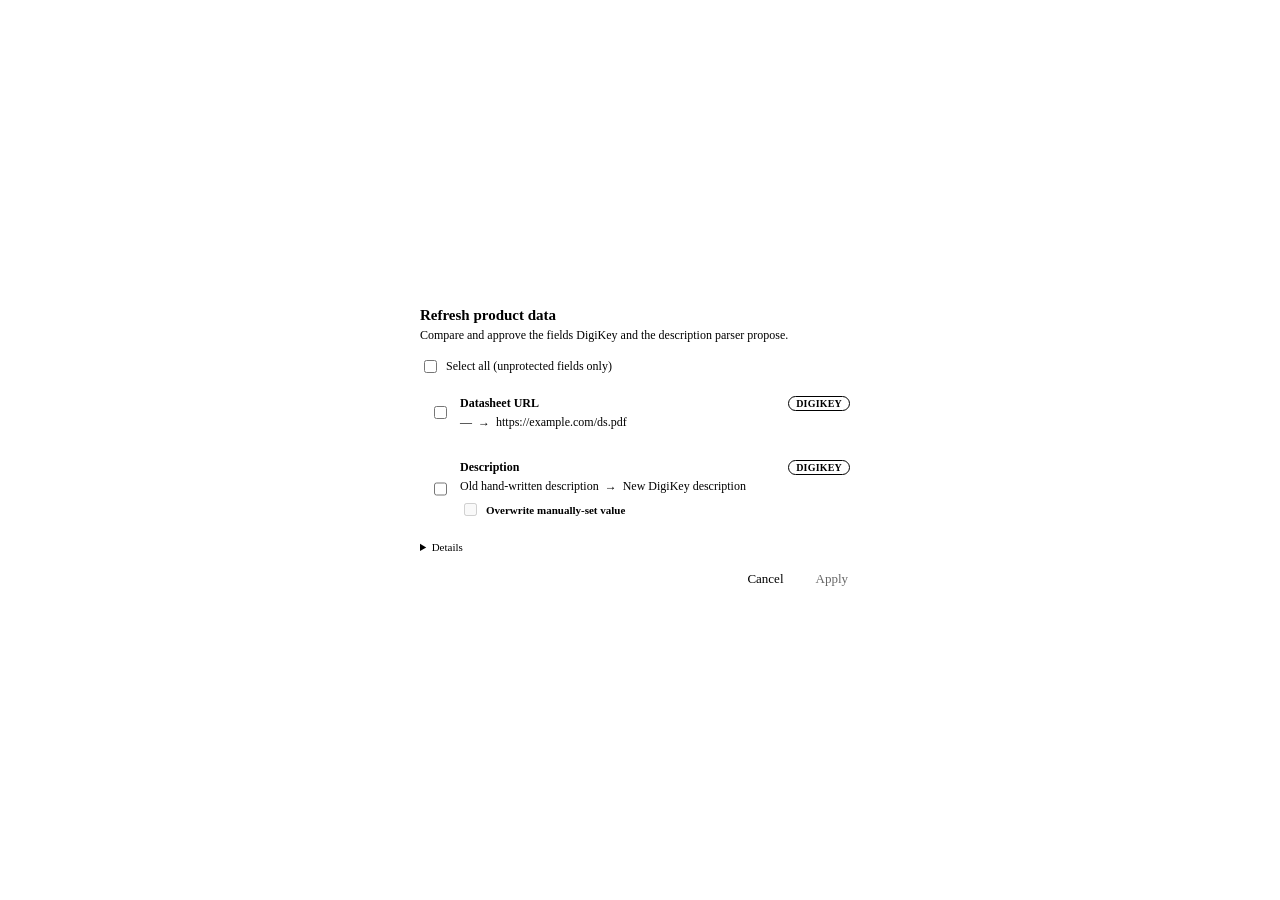
Test: EnrichmentDiffDialog › applies armed rows, toasts "Applied N fields", and closes the dialog
Expected: the text "Datasheet URL" is shown, x1=460 y1=396 x2=539 y2=411
Click the checkbox named "include": (440, 412) x1=434 y1=398 x2=447 y2=427
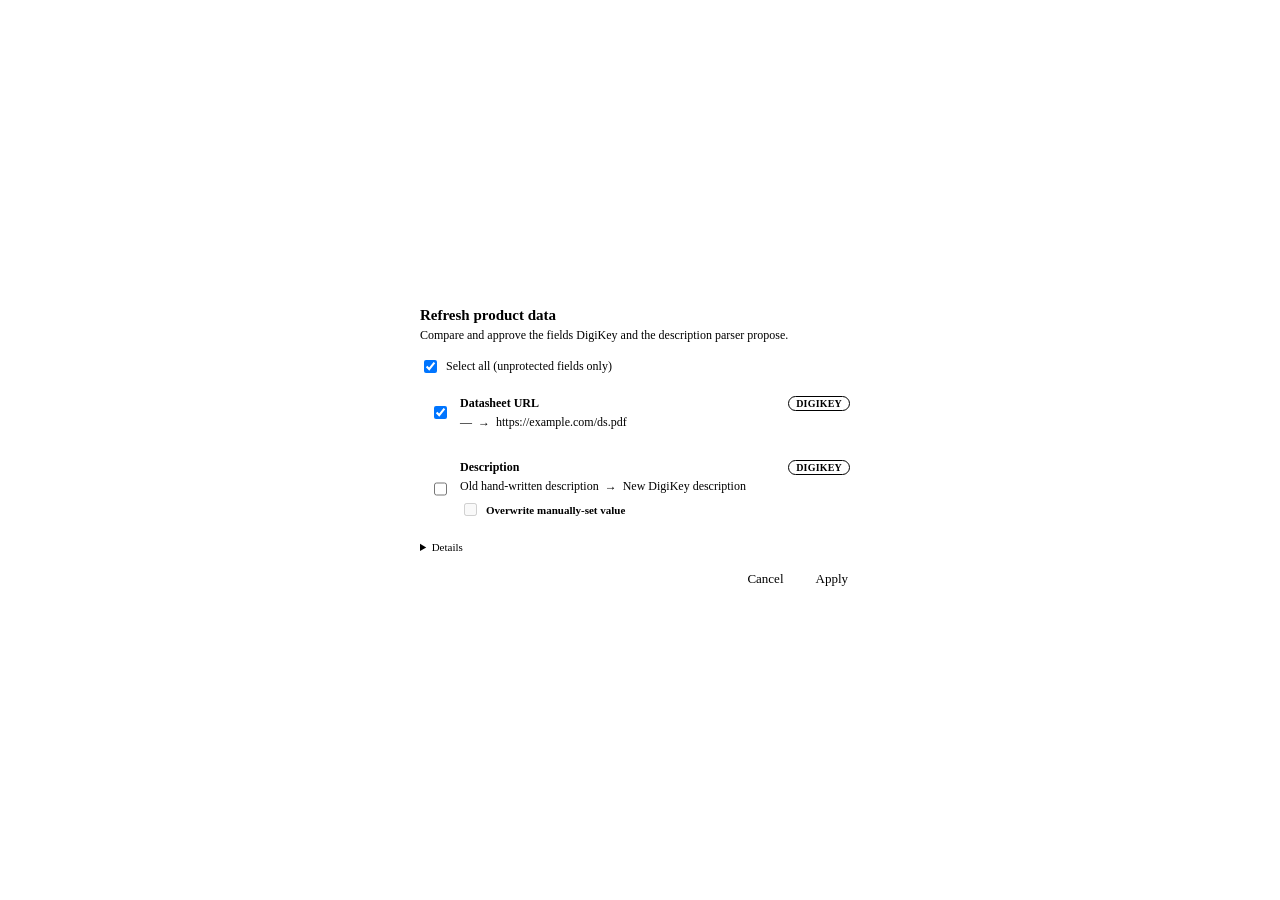
Click the button "Apply": (832, 579) x1=804 y1=565 x2=860 y2=593
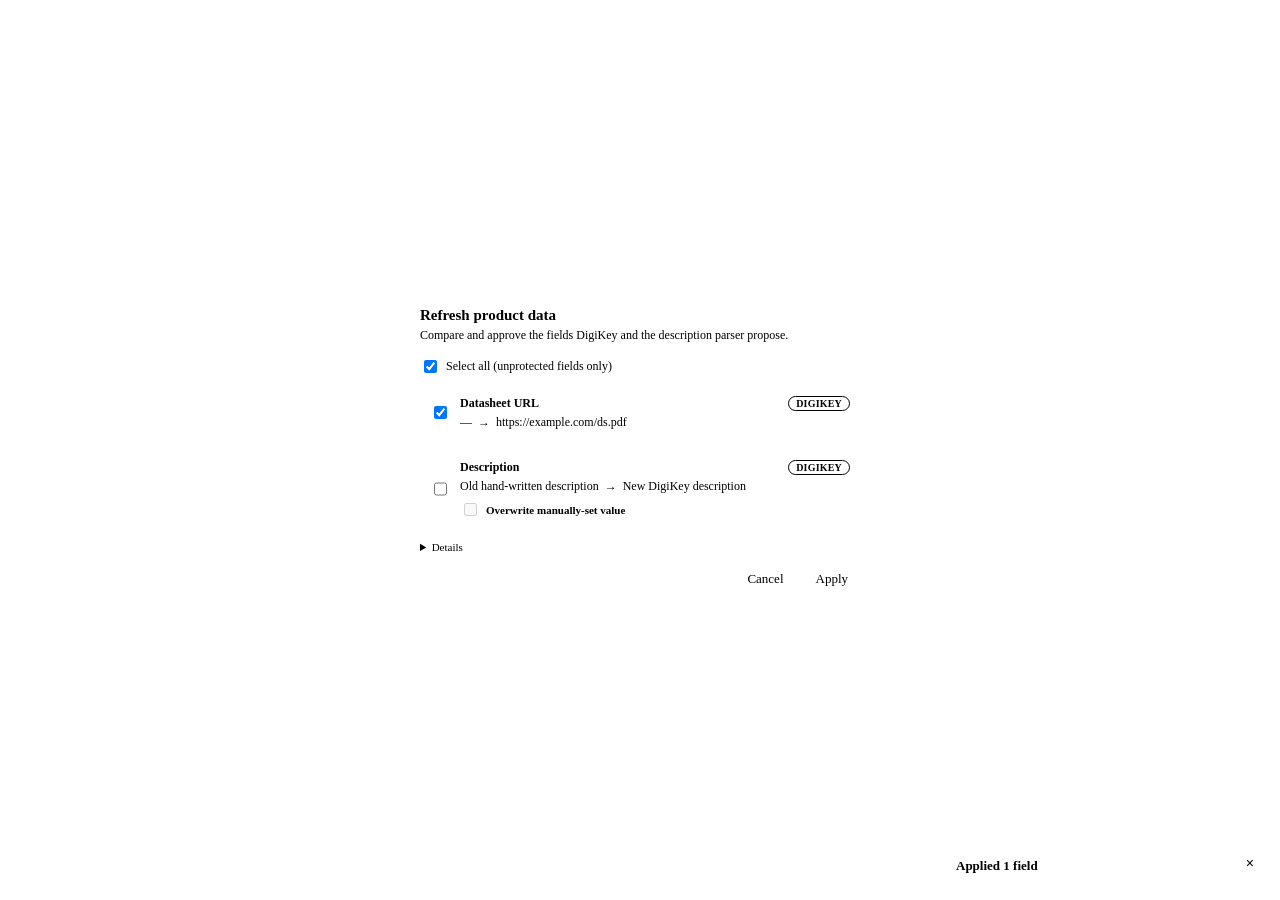
Now the text "Applied 1 field" is shown, box x1=956 y1=858 x2=1038 y2=873
